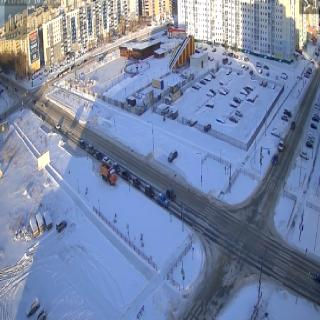large-vehicle: (100, 164, 114, 188)
small-vehicle: (26, 298, 38, 315), (158, 194, 170, 208), (166, 186, 176, 202), (167, 150, 178, 164), (35, 309, 48, 320), (56, 220, 66, 233), (144, 185, 154, 198), (120, 168, 130, 180), (300, 150, 310, 161), (271, 127, 281, 138), (112, 163, 121, 174), (132, 178, 141, 188), (78, 139, 86, 150), (87, 145, 95, 156), (161, 105, 169, 116), (229, 116, 238, 125), (309, 120, 317, 130), (272, 153, 278, 165), (311, 114, 320, 122), (234, 109, 243, 117), (204, 122, 211, 132), (280, 72, 288, 80), (306, 139, 313, 148), (192, 82, 199, 91), (308, 130, 314, 140), (281, 114, 288, 122), (284, 109, 292, 116), (232, 96, 240, 103), (220, 88, 227, 96), (290, 119, 296, 128), (240, 89, 247, 96), (97, 154, 103, 162), (104, 156, 110, 164), (258, 79, 264, 87), (54, 123, 60, 130), (209, 88, 215, 95), (200, 78, 206, 84)
